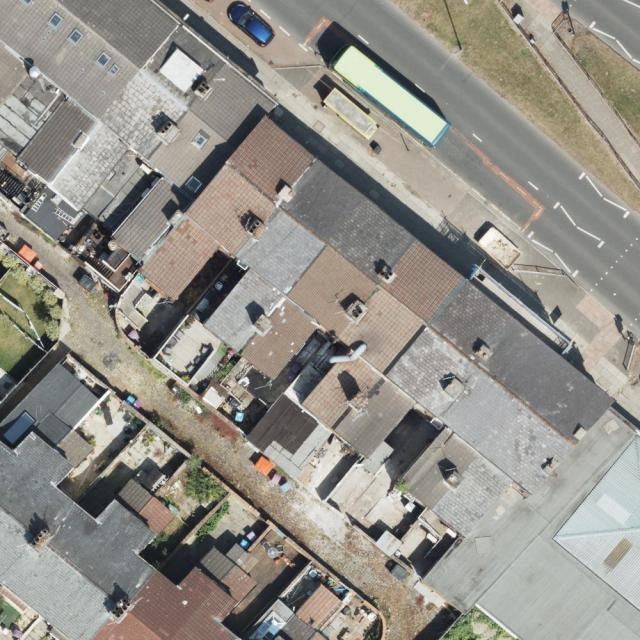roof: (0, 0, 640, 640), (0, 361, 346, 640)
skylight: (2, 411, 37, 445), (249, 610, 288, 640), (189, 130, 210, 152), (182, 174, 203, 194), (94, 50, 111, 67), (47, 12, 63, 29), (68, 27, 82, 46), (108, 63, 121, 79)
